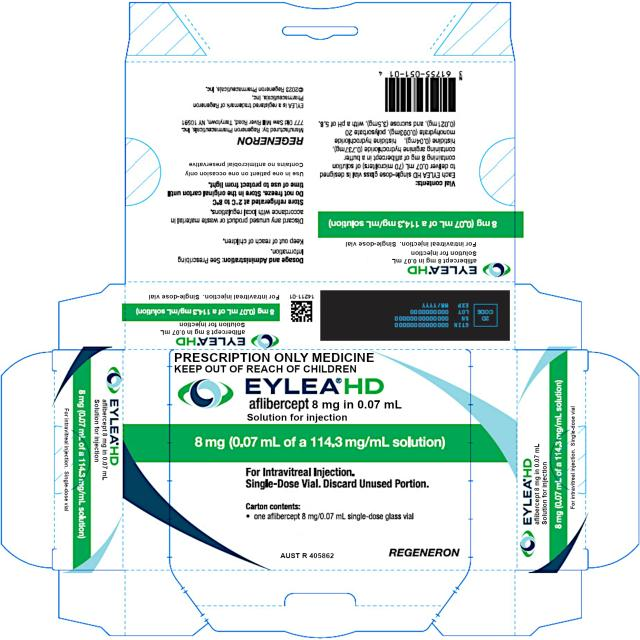Artwork: (0, 0, 640, 640)
Back_Panel: (126, 62, 515, 282)
Bottom_Part: (517, 350, 587, 570)
Extra_Areas: (125, 1, 516, 61), (588, 350, 640, 569), (1, 351, 52, 570), (515, 282, 583, 349), (56, 284, 124, 350), (58, 570, 125, 636), (515, 571, 582, 636)
Front_Panel: (124, 349, 517, 570)
Side_Panel: (125, 282, 515, 350), (125, 570, 515, 637)
Top_Panel: (53, 351, 123, 571)
